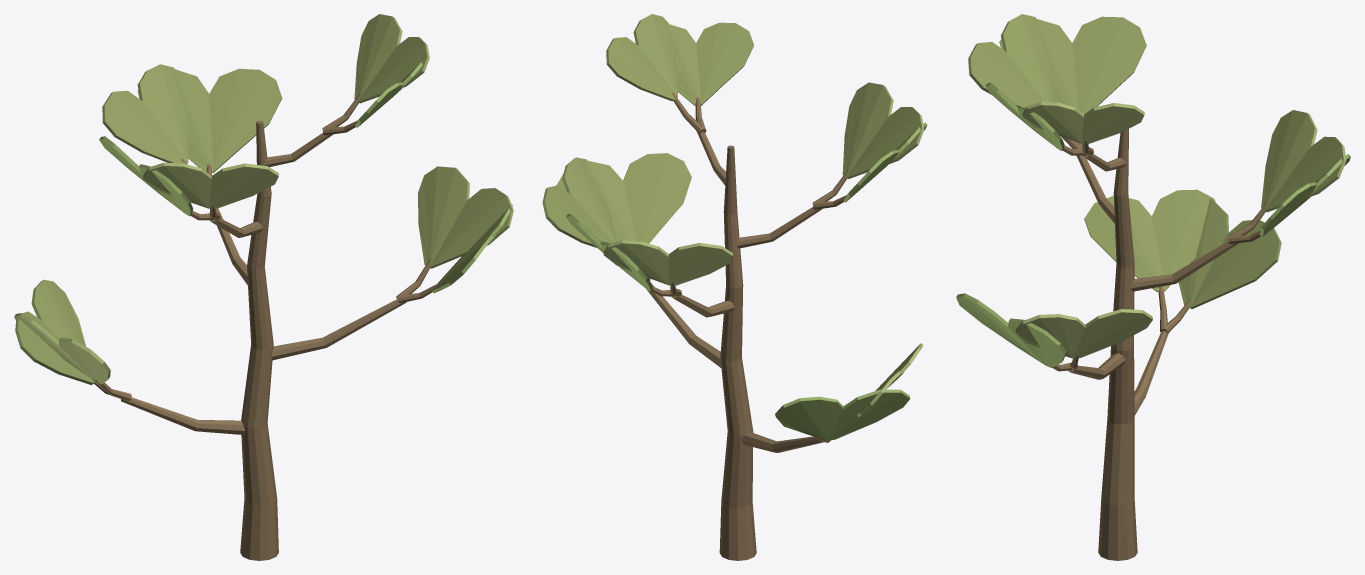
3 views of the same model, side by side, from view 1: azimuth 30°, elevation 25°; view 2: azimuth 150°, elevation 25°; view 3: azimuth 270°, elevation 25° (orthographic). The views are drawn at different scales.
Visible parts, largest first — view 1: WholeSlenderTaperedZigzagSaplingTrunk, WholeShallowBilobedFanLeaf2_0, WholeShallowBilobedFanLeaf1_1, WholeShallowBilobedFanLeaf2_1, WholeShallowBilobedFanLeaf4_1, WholeShallowBilobedFanLeaf3_1, WholeShallowBilobedFanLeaf0_0, WholeShallowBilobedFanLeaf0_1, WholeAlternatingUpcurvedWoodyBranch1, WholeAlternatingUpcurvedWoodyBranch0, WholeShallowBilobedFanLeaf3_0, WholeShallowBilobedFanLeaf1_0 (+2 smaller); view 2: WholeSlenderTaperedZigzagSaplingTrunk, WholeShallowBilobedFanLeaf1_0, WholeShallowBilobedFanLeaf3_1, WholeShallowBilobedFanLeaf4_0, WholeShallowBilobedFanLeaf4_1, WholeShallowBilobedFanLeaf0_0, WholeShallowBilobedFanLeaf1_1, WholeShallowBilobedFanLeaf2_1, WholeAlternatingUpcurvedWoodyBranch1, WholeShallowBilobedFanLeaf2_0, WholeAlternatingUpcurvedWoodyBranch0, WholeAlternatingUpcurvedWoodyBranch3 (+3 smaller); view 3: WholeSlenderTaperedZigzagSaplingTrunk, WholeShallowBilobedFanLeaf3_0, WholeShallowBilobedFanLeaf0_1, WholeShallowBilobedFanLeaf0_0, WholeShallowBilobedFanLeaf2_1, WholeShallowBilobedFanLeaf3_1, WholeShallowBilobedFanLeaf1_1, WholeShallowBilobedFanLeaf4_1, WholeShallowBilobedFanLeaf1_0, WholeAlternatingUpcurvedWoodyBranch2, WholeShallowBilobedFanLeaf2_0, WholeShallowBilobedFanLeaf4_0 (+3 smaller).
Boxes of the visible parts, x1,y1,x2,y2 form: WholeSlenderTaperedZigzagSaplingTrunk: (240, 120, 278, 560); WholeShallowBilobedFanLeaf2_0: (137, 68, 282, 172); WholeShallowBilobedFanLeaf1_1: (418, 166, 513, 268); WholeShallowBilobedFanLeaf2_1: (102, 64, 189, 164); WholeShallowBilobedFanLeaf4_1: (354, 14, 429, 103); WholeShallowBilobedFanLeaf3_1: (143, 162, 278, 208); WholeShallowBilobedFanLeaf0_0: (15, 279, 94, 384); WholeShallowBilobedFanLeaf0_1: (14, 313, 110, 384); WholeAlternatingUpcurvedWoodyBranch1: (271, 299, 406, 360); WholeAlternatingUpcurvedWoodyBranch0: (121, 397, 245, 434); WholeShallowBilobedFanLeaf3_0: (99, 136, 192, 216); WholeShallowBilobedFanLeaf1_0: (431, 204, 512, 293); WholeSlenderTaperedZigzagSaplingTrunk: (719, 145, 756, 560); WholeShallowBilobedFanLeaf1_0: (556, 153, 691, 243); WholeShallowBilobedFanLeaf3_1: (842, 82, 924, 178); WholeShallowBilobedFanLeaf4_0: (665, 22, 753, 105); WholeShallowBilobedFanLeaf4_1: (606, 14, 678, 101); WholeShallowBilobedFanLeaf0_0: (775, 389, 910, 440); WholeShallowBilobedFanLeaf1_1: (542, 157, 616, 247); WholeShallowBilobedFanLeaf2_1: (603, 240, 732, 285); WholeAlternatingUpcurvedWoodyBranch1: (646, 282, 721, 367); WholeShallowBilobedFanLeaf2_0: (566, 214, 652, 291); WholeAlternatingUpcurvedWoodyBranch0: (741, 432, 824, 452); WholeAlternatingUpcurvedWoodyBranch3: (737, 207, 822, 248); WholeSlenderTaperedZigzagSaplingTrunk: (1098, 129, 1137, 560); WholeShallowBilobedFanLeaf3_0: (999, 16, 1146, 114); WholeShallowBilobedFanLeaf0_1: (1084, 189, 1215, 291); WholeShallowBilobedFanLeaf0_0: (1178, 199, 1281, 308); WholeShallowBilobedFanLeaf2_1: (1261, 110, 1346, 212); WholeShallowBilobedFanLeaf3_1: (968, 14, 1054, 107); WholeShallowBilobedFanLeaf1_1: (1015, 309, 1152, 358); WholeShallowBilobedFanLeaf4_1: (1022, 101, 1144, 143); WholeShallowBilobedFanLeaf1_0: (956, 293, 1066, 367); WholeAlternatingUpcurvedWoodyBranch2: (1131, 241, 1238, 291); WholeShallowBilobedFanLeaf2_0: (1260, 154, 1350, 236); WholeShallowBilobedFanLeaf4_0: (985, 83, 1064, 150).
Bounding box in the file's own units: 1.66 × 1.87 × 1.3.
